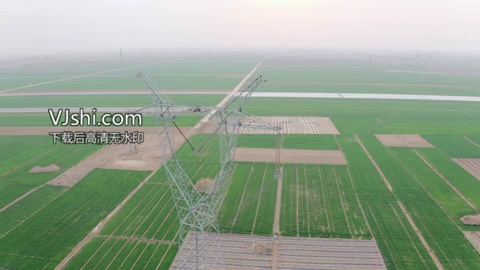tower_head: (136, 71, 281, 222)
